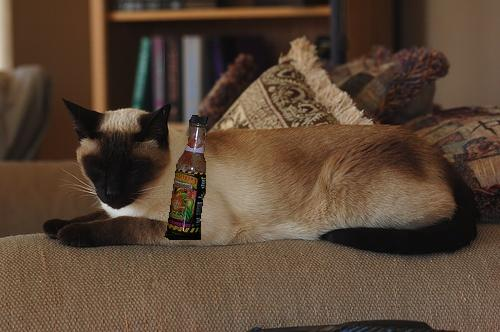tampered: (165, 116, 208, 240)
